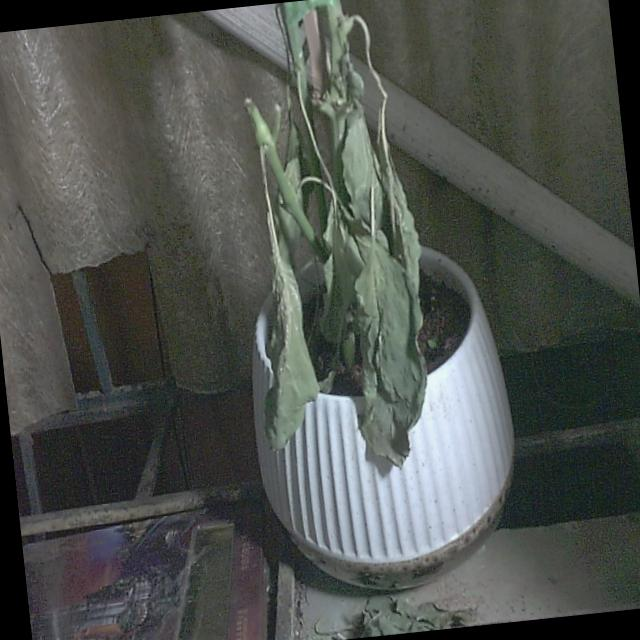Leaf: (339, 244, 438, 473), (244, 255, 326, 450)
